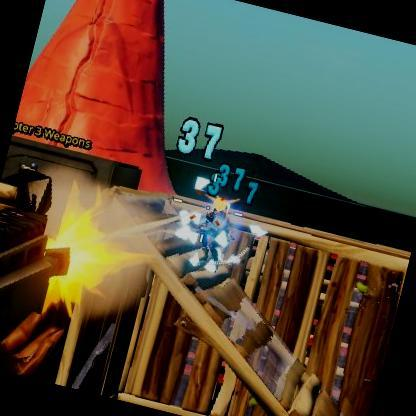person: (190, 205, 236, 272)
